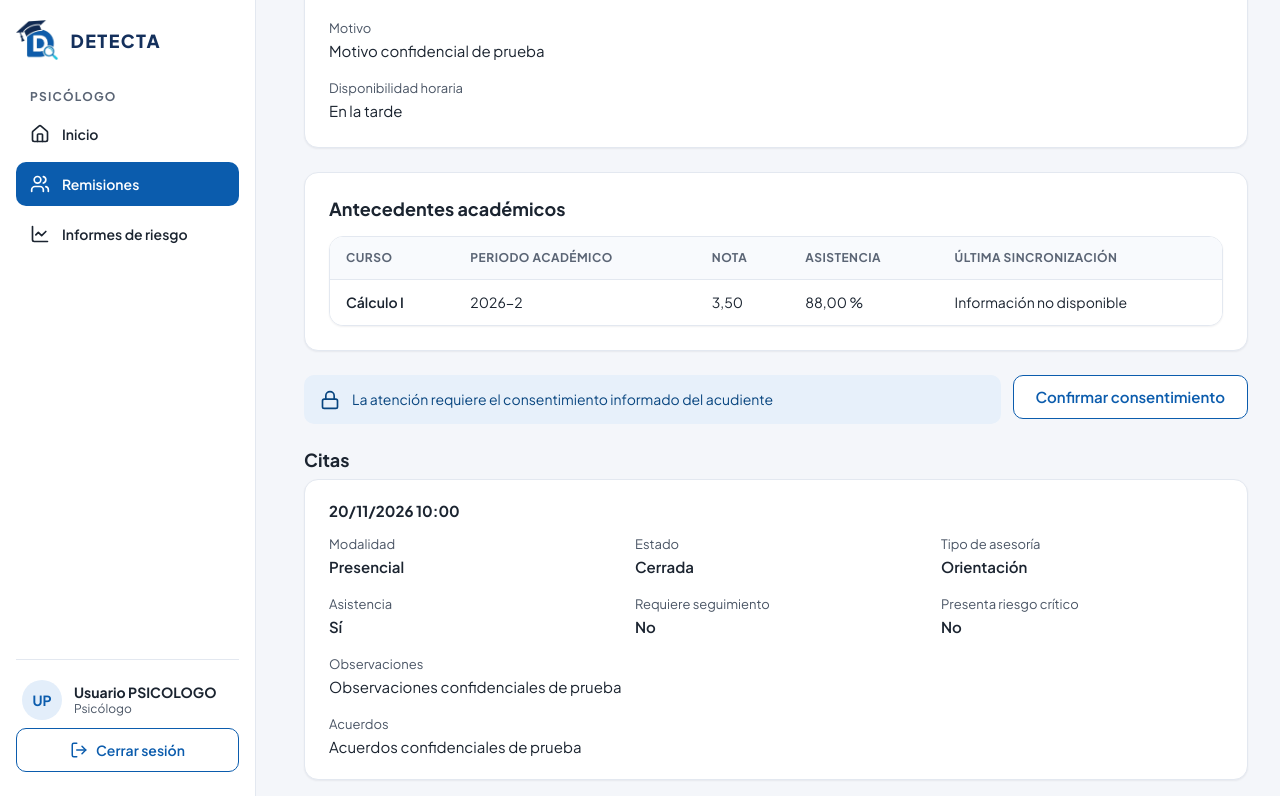
Test: Consentimiento de menores (CUD09) › R06: no ofrece registrar el resultado de atención en F4a mientras el DTO exige consentimiento
(page scrolled)
Step 1. Click the button "Confirmar consentimiento" → [1130, 397], box [1013,375,1248,419]
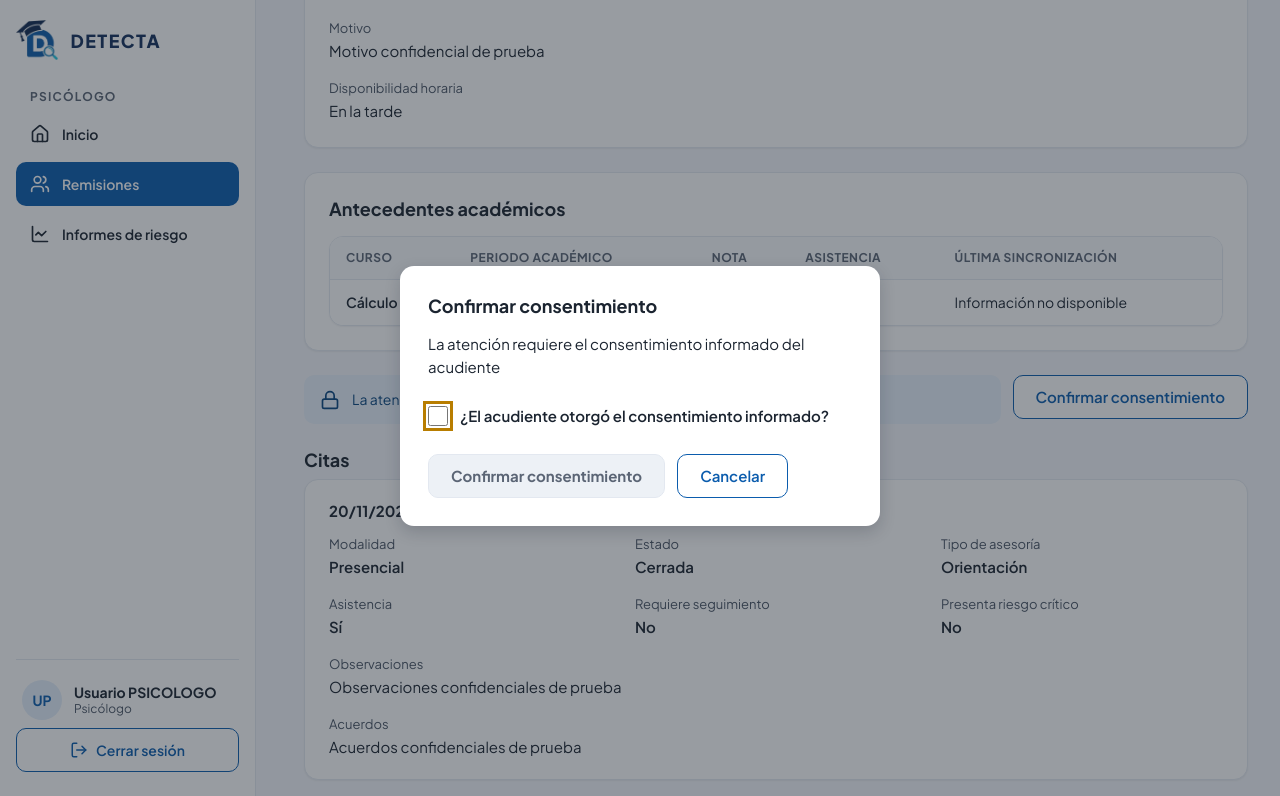
Now the checkbox labelled "¿El acudiente otorgó el consentimiento informado?" is shown, box [428,406,448,426]
